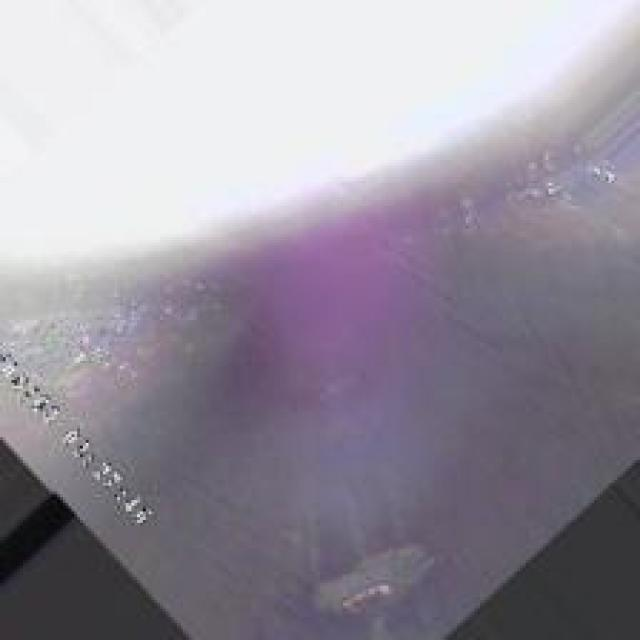ferrule: (309, 549, 417, 614)
